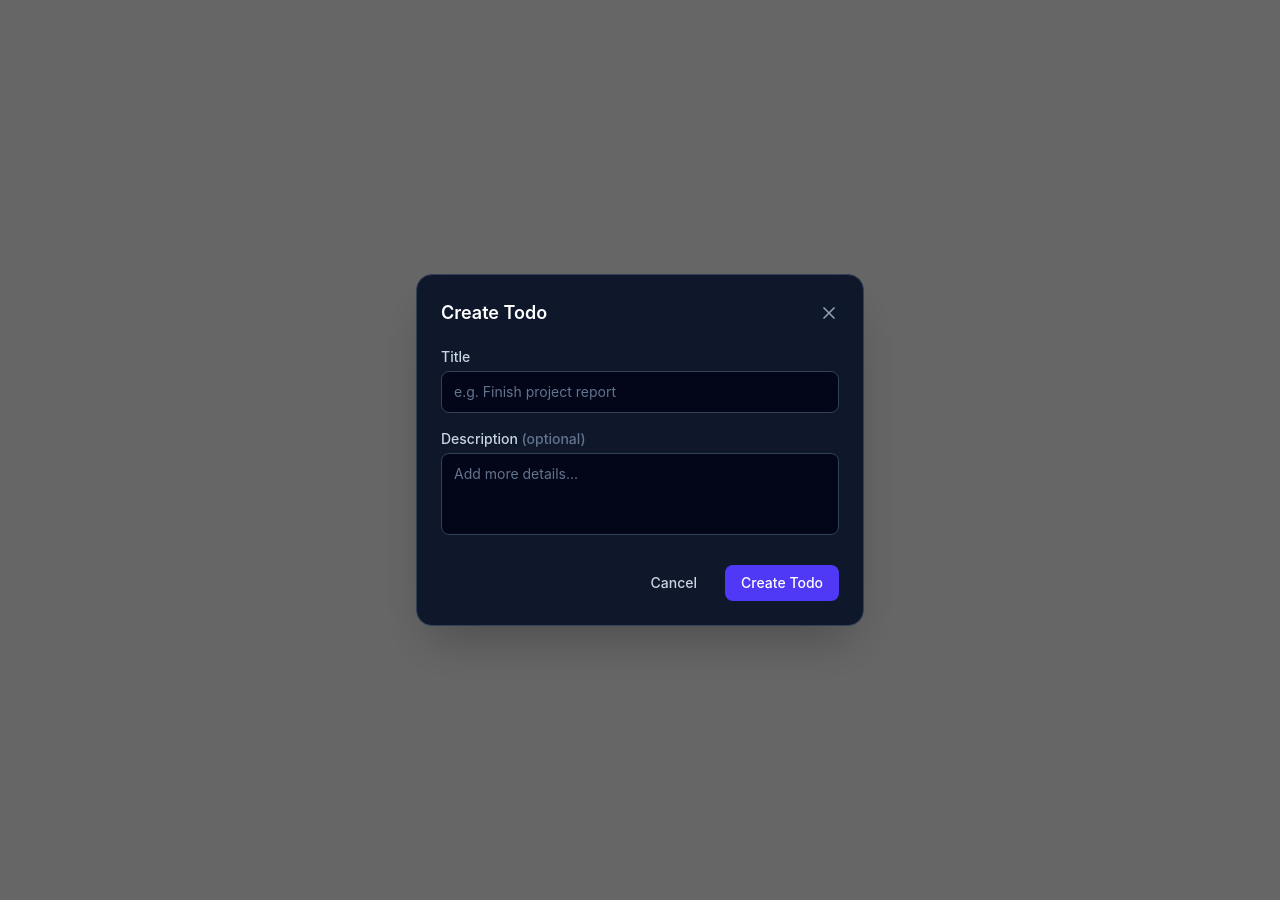
TodoForm validation › shows a validation error when the title is shorter than 3 characters
In the field with placeholder "e.g. Finish project report": point(640, 392) x1=441 y1=371 x2=839 y2=413, type "ab"
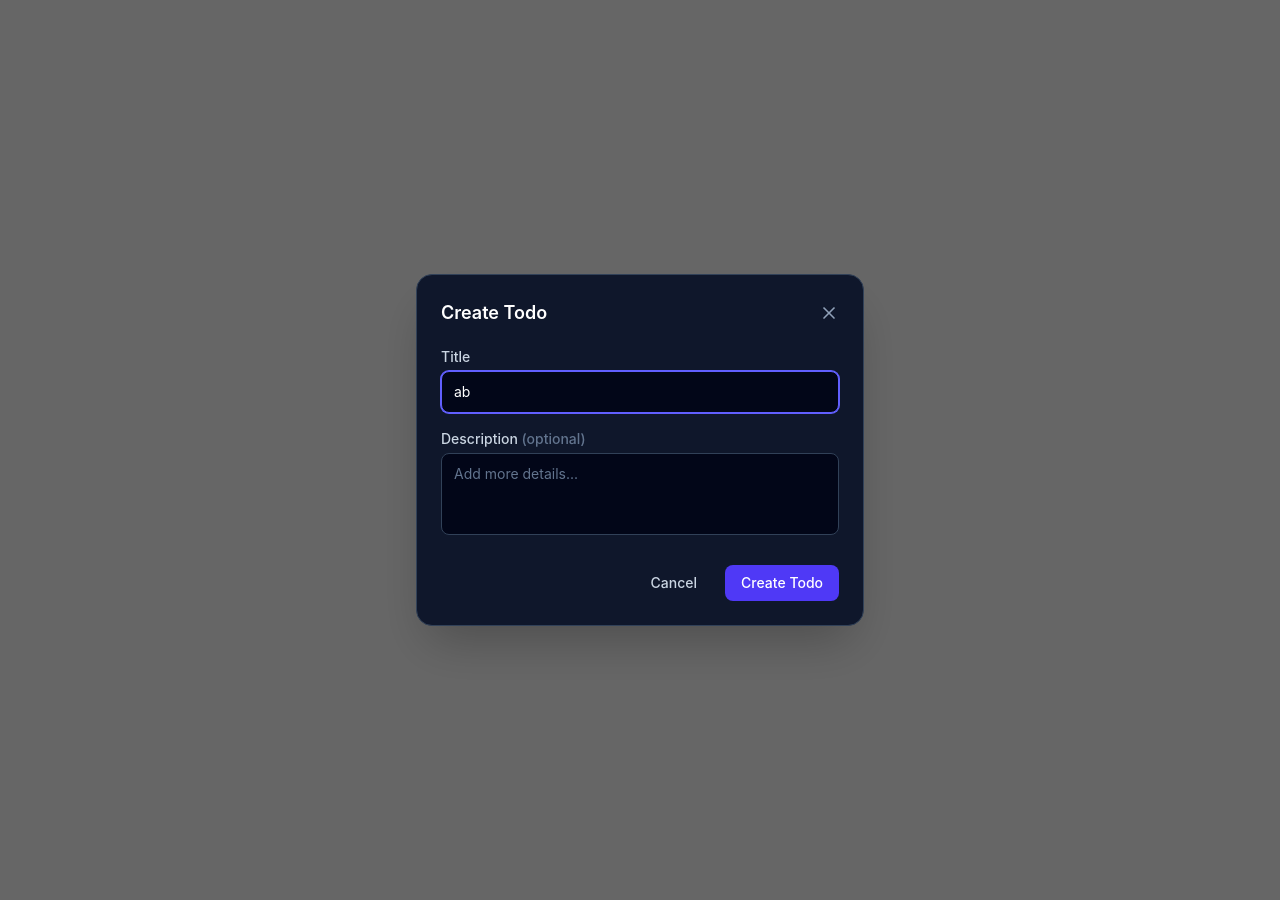
Click the button "Create Todo": point(782, 583) x1=725 y1=565 x2=839 y2=601
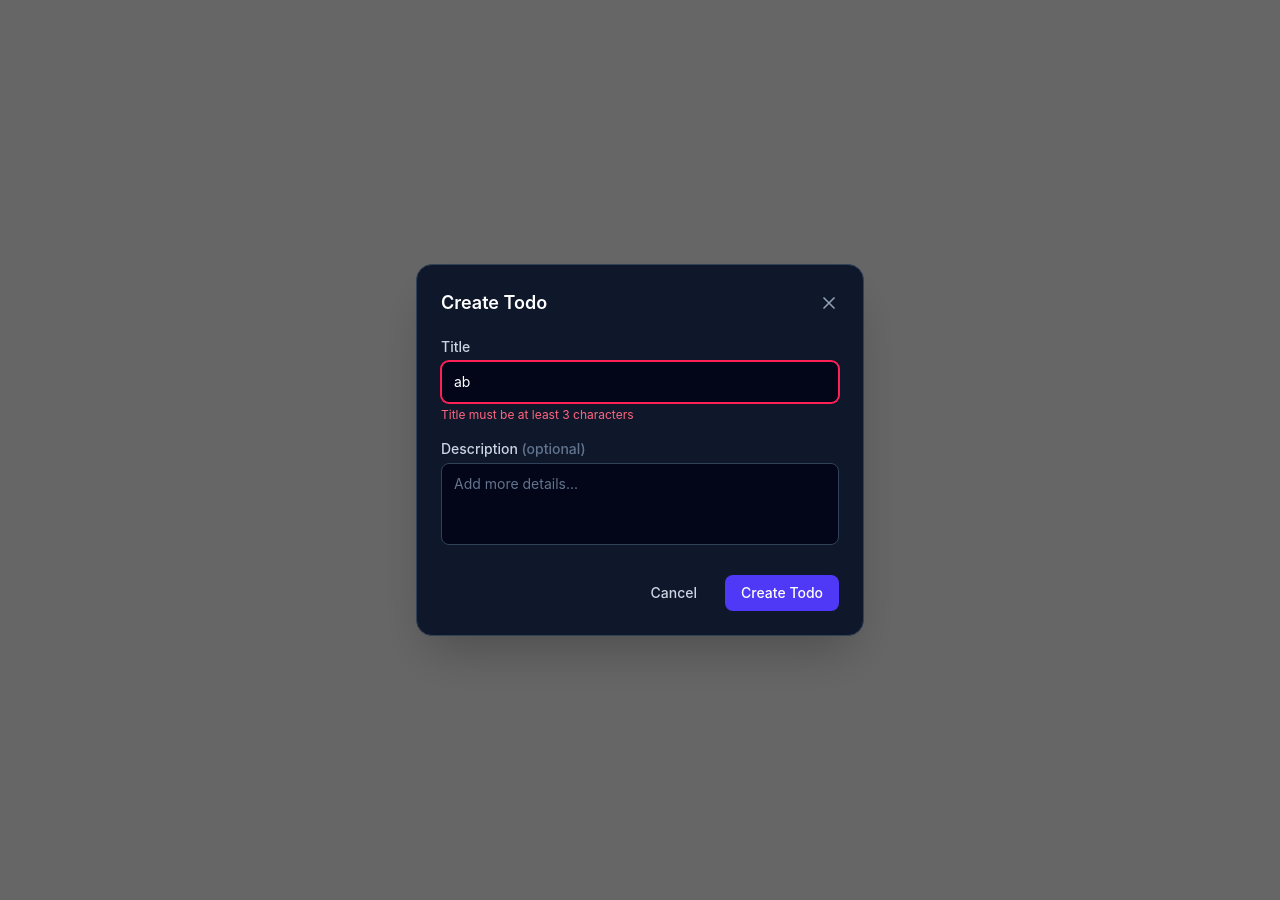
Expected: the text "Title must be at least 3 characters" is shown, x1=441 y1=407 x2=634 y2=422
